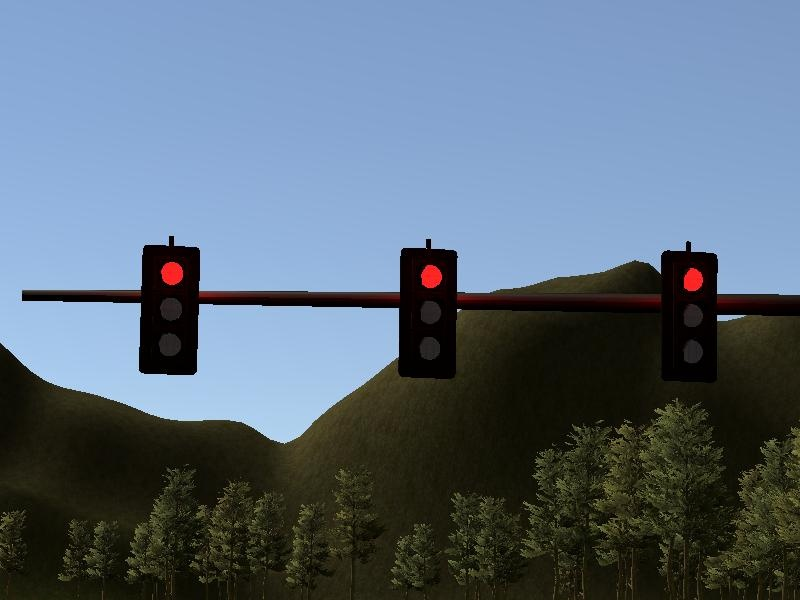Red: (136, 240, 202, 381), (395, 245, 461, 382), (658, 246, 722, 383)
